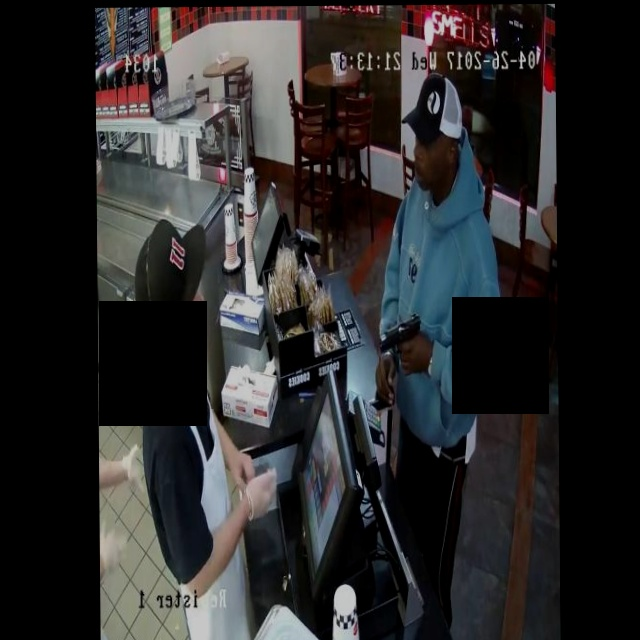gun: (368, 288, 433, 382)
